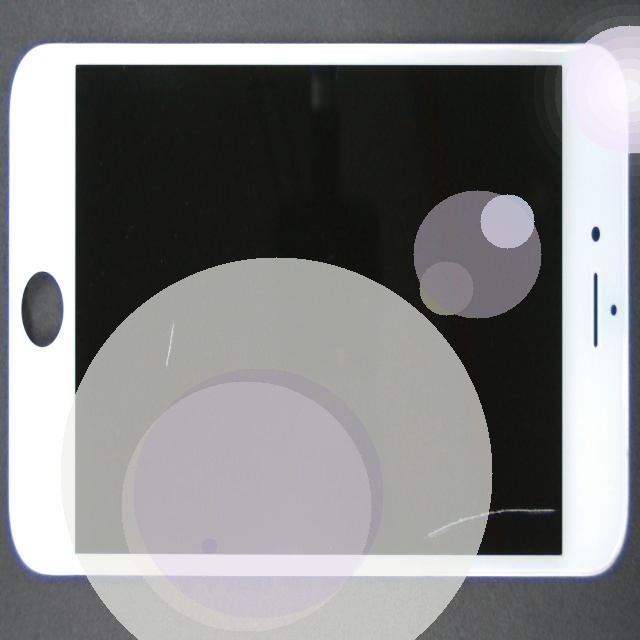scratch: (283, 274, 640, 640), (93, 116, 245, 501)
